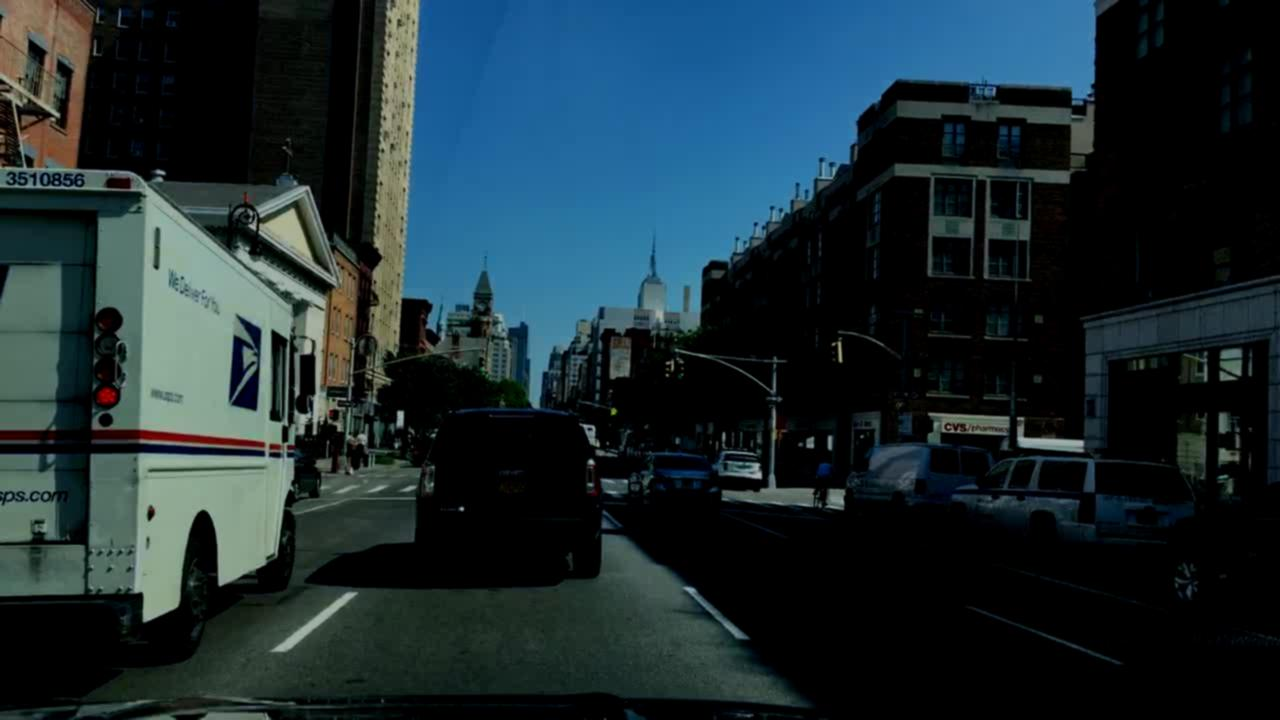GMC: (496, 466, 527, 482)
